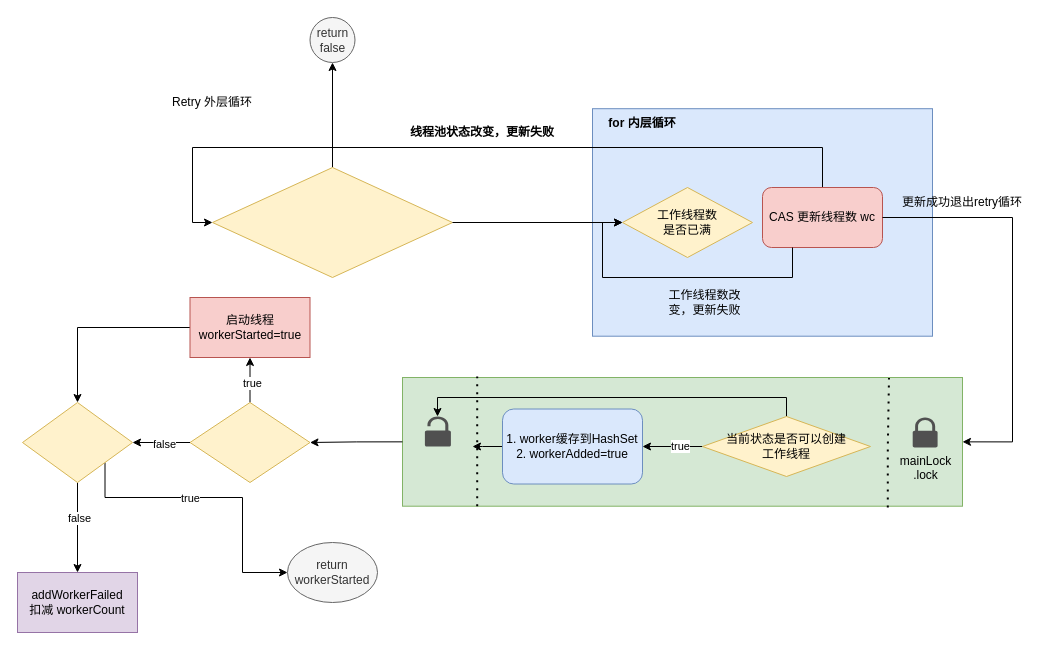
The diagram is 1050 pixels wide and 650 high, and some of its shapes have lost their labels. The box of each missing label's shape, as (x1, y1, x2, y2) in pixels:
mainLock .unlock: (424, 416, 450, 446)
workerAdded 是否 为true？: (189, 402, 310, 482)
workerStarted 是否为true？: (22, 402, 132, 482)
线程池状态 RUNNING 或 执行处理任务队列中的任务: (212, 166, 452, 278)
